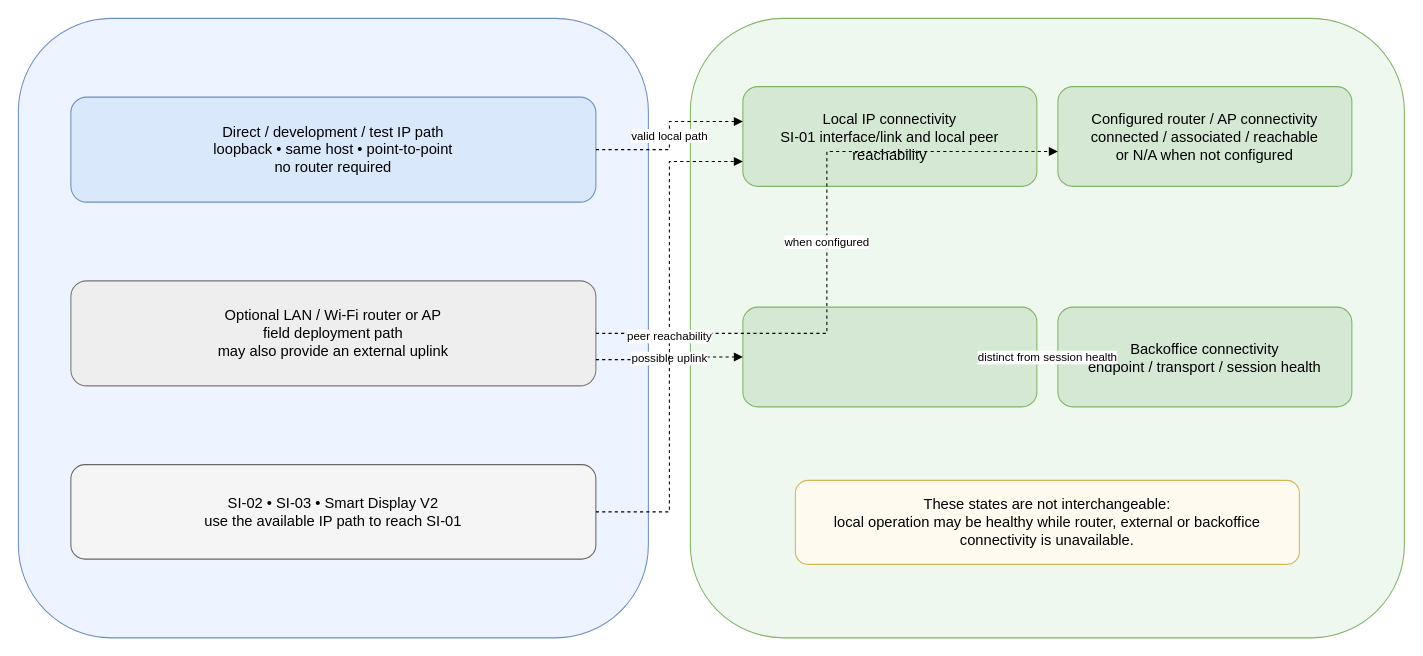
The diagram is 1423 pixels wide and 656 high, and some of its shapes have lost their labels. Each missing label, with the box of its shape:
Connectivity status exposed by the system: (689, 17, 1404, 638)
External network reachability outside the local network / Internet: (742, 306, 1037, 407)
Possible local network paths: (17, 17, 648, 638)
